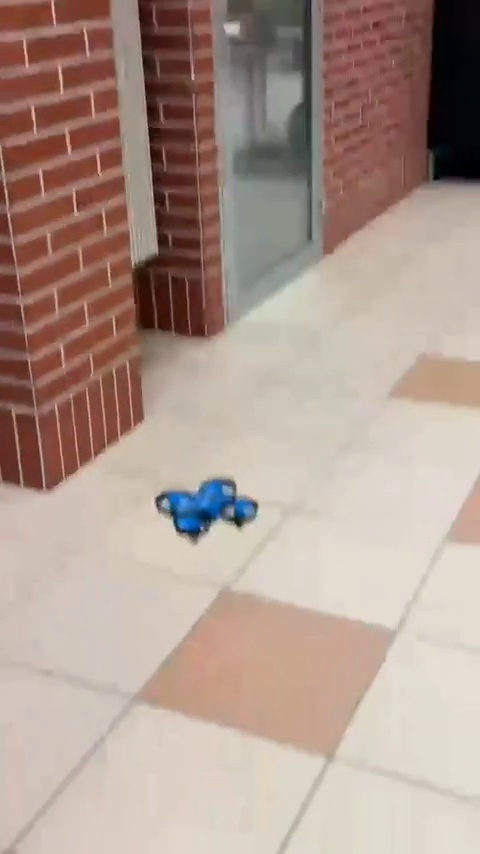drone: (146, 479, 252, 539)
